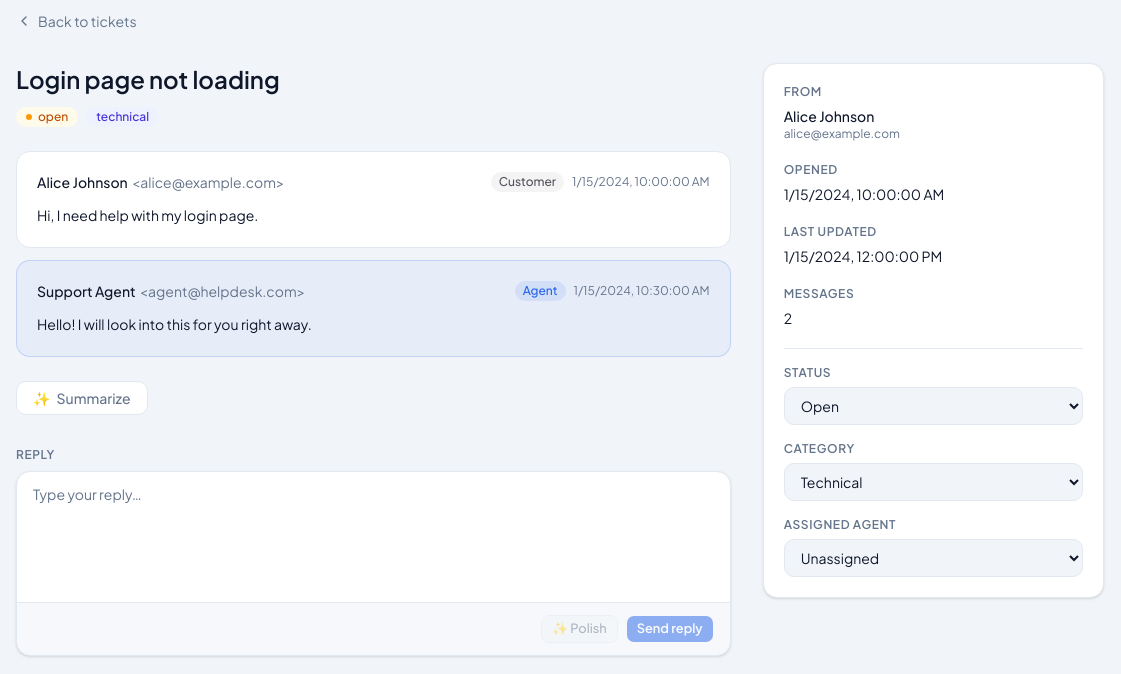
Test: TicketDetailPage › shows an error when the status update fails
Expected: the heading "Login page not loading" is shown, [16,64,280,94]
Select "Closed" in the dropdown below "Status" at (933, 406), box [784,387,1083,425]
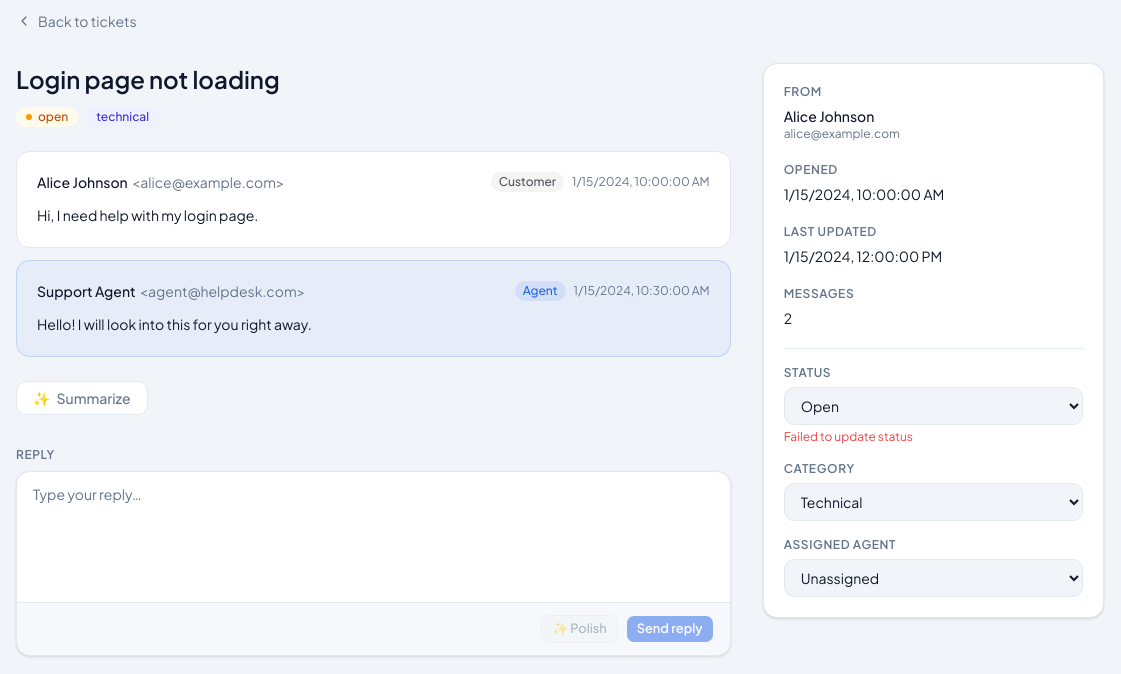
Result: the text "Failed to update status" is shown at [784,429,913,444]
